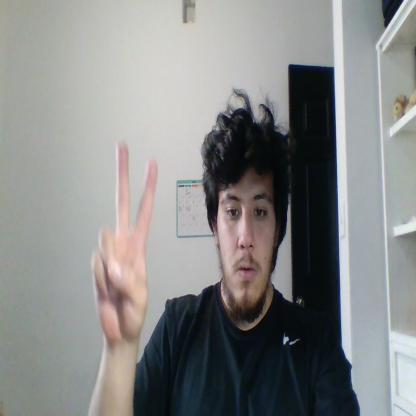V: (90, 141, 158, 344)
